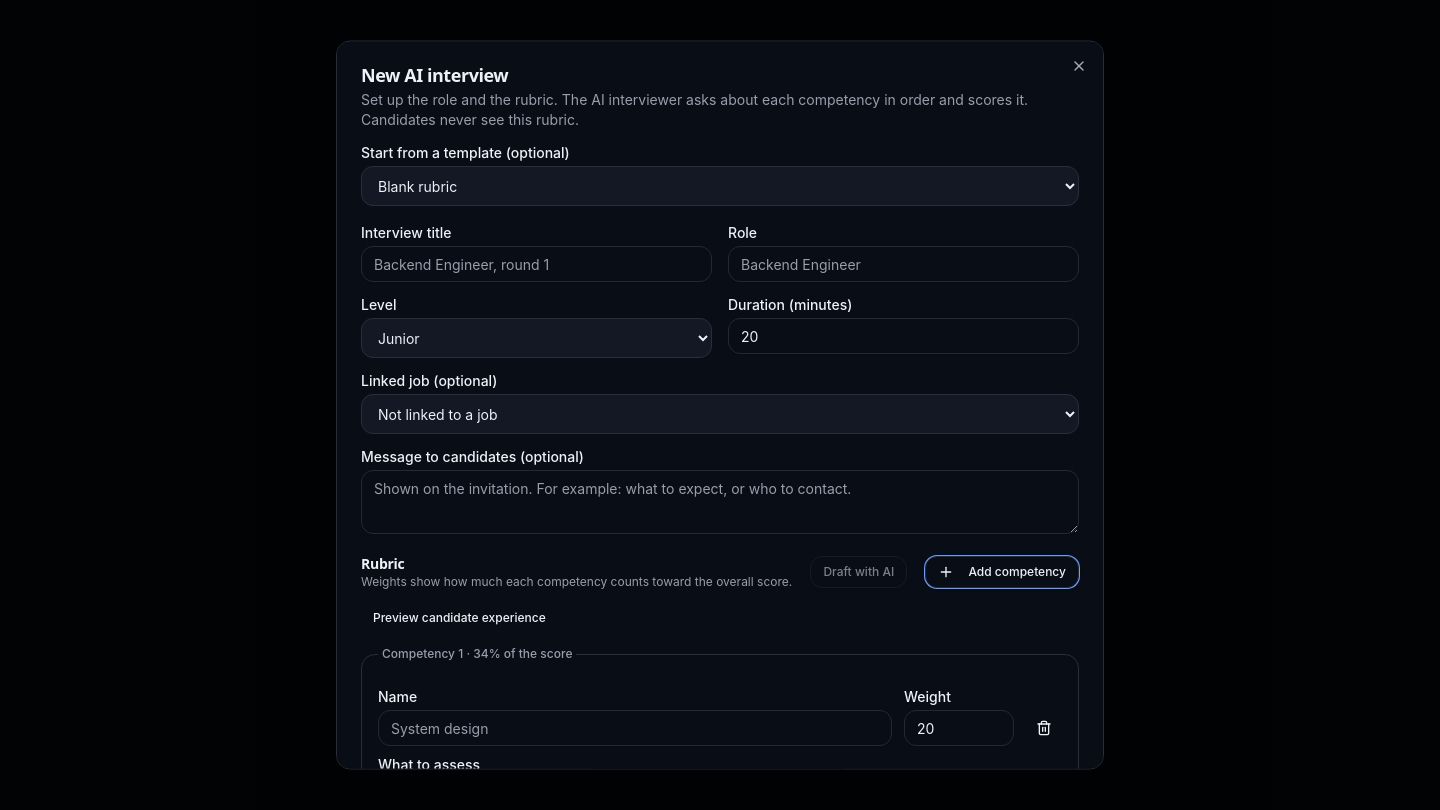
TemplateFormDialog › adds and removes competencies, keeping at least one and at most eight
Earlier steps of the test are not shown.
Click the button "Add competency".
click(1002, 572)  # box [925, 556, 1079, 588]
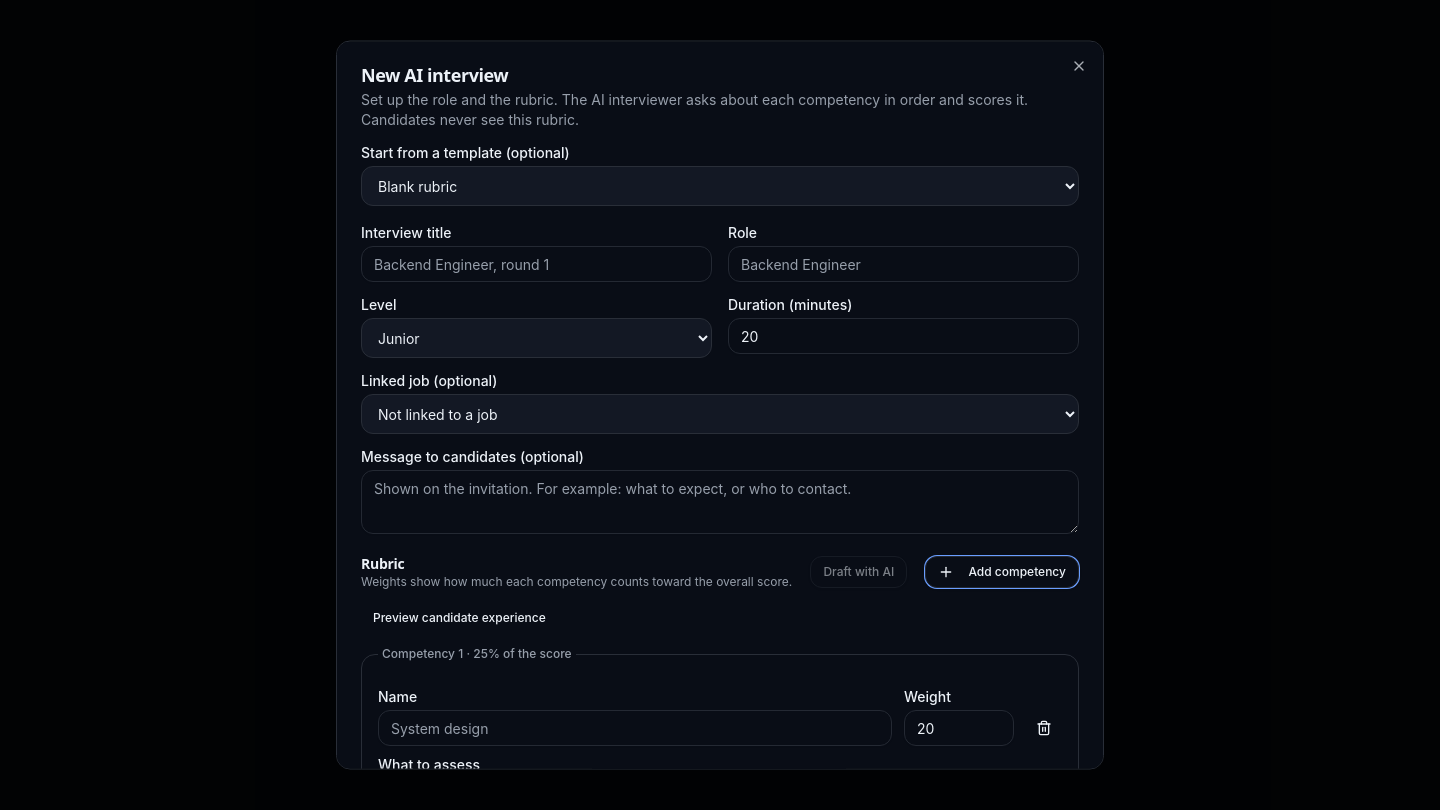
Click the button "Add competency".
click(1002, 572)  # box [925, 556, 1079, 588]
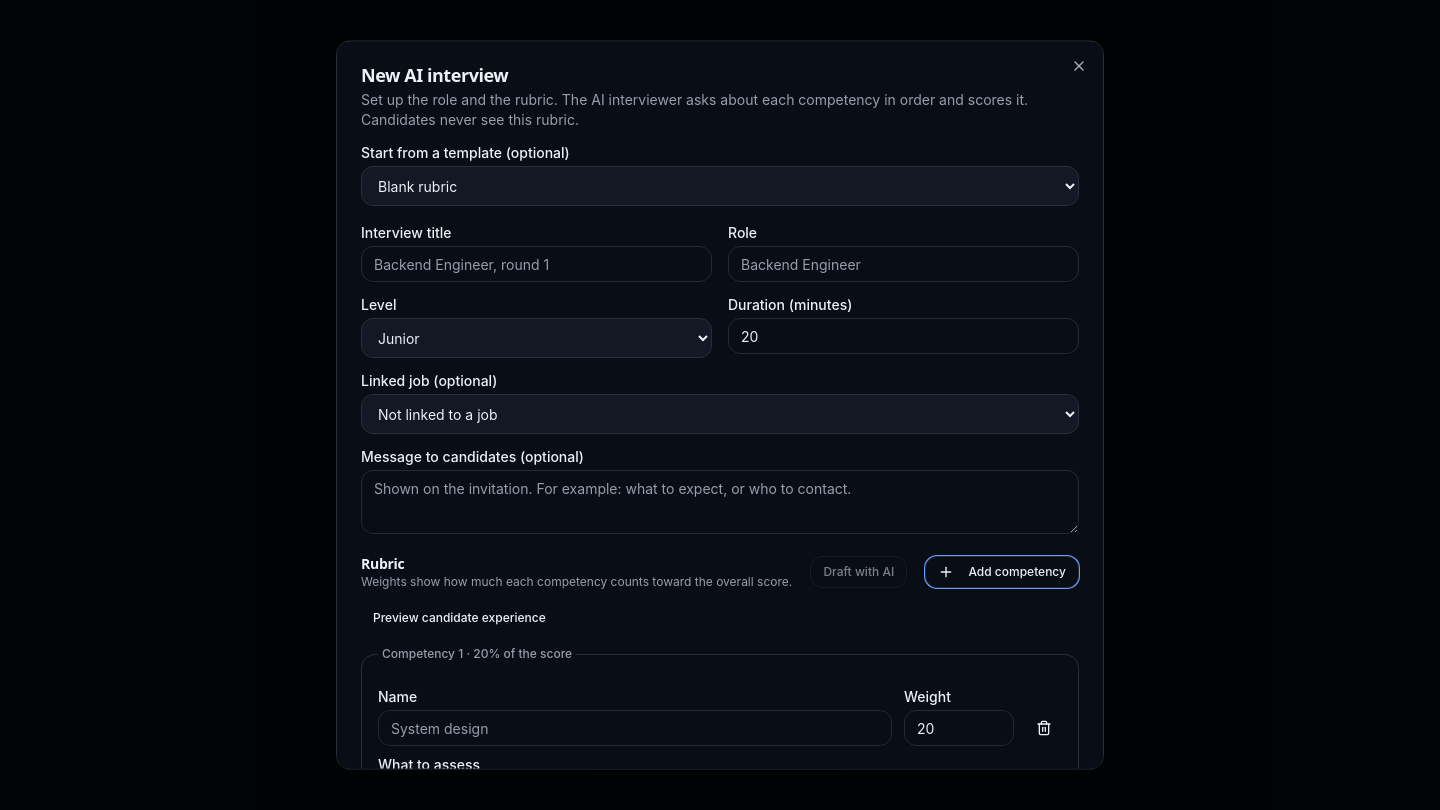
Click the button "Add competency".
click(1002, 572)  # box [925, 556, 1079, 588]
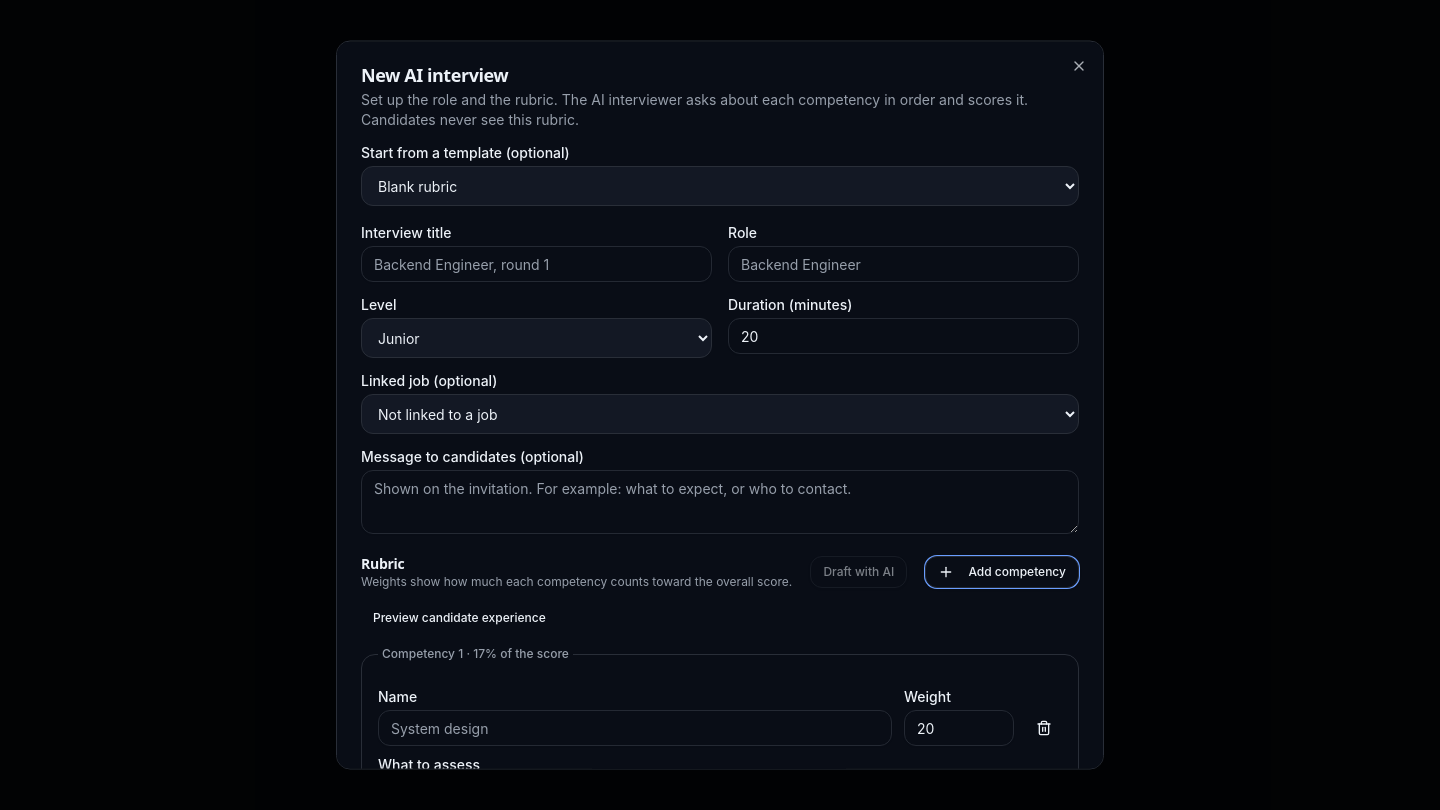
Click the button "Add competency".
click(1002, 572)  # box [925, 556, 1079, 588]
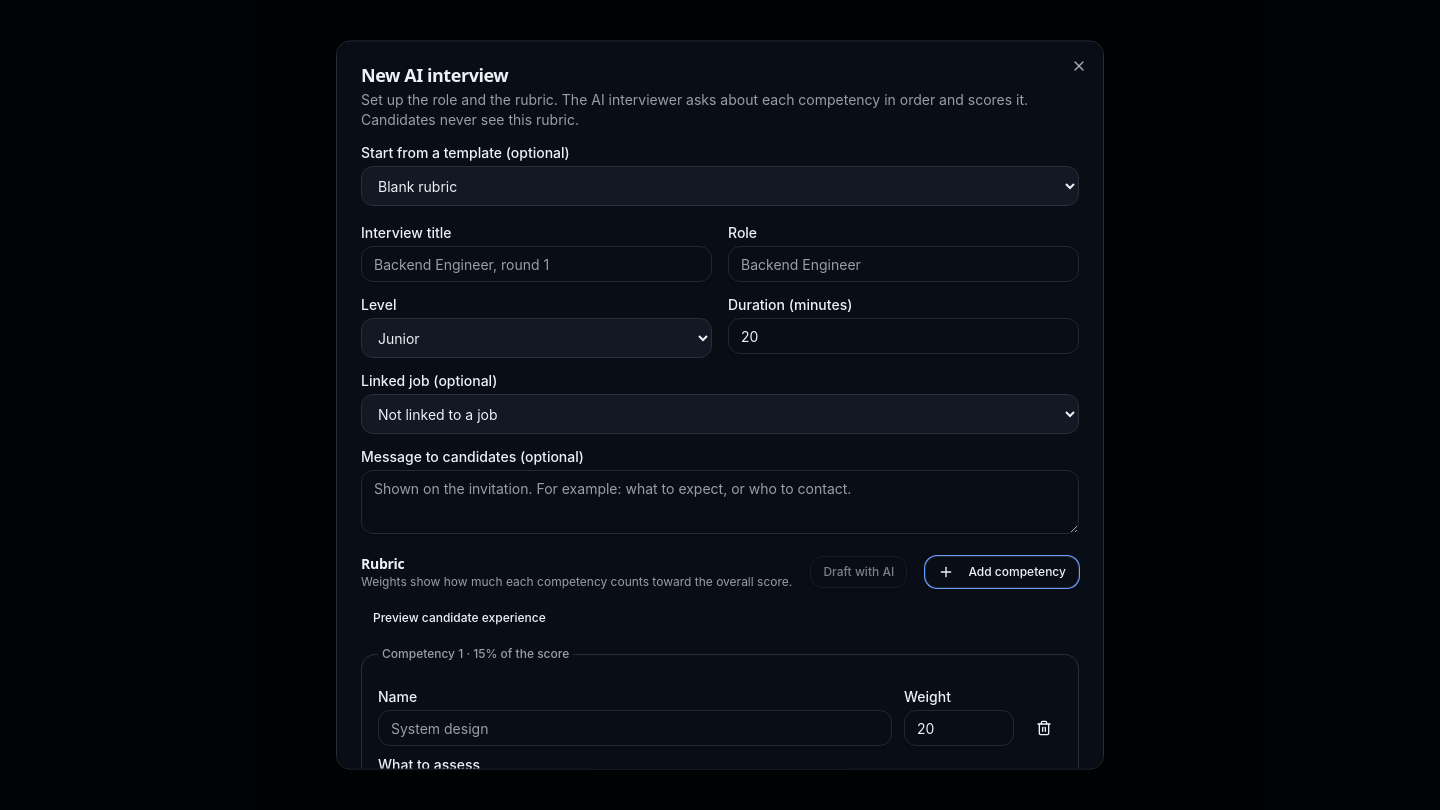
Click the button "Add competency".
click(1002, 572)  # box [925, 556, 1079, 588]
(page scrolled)
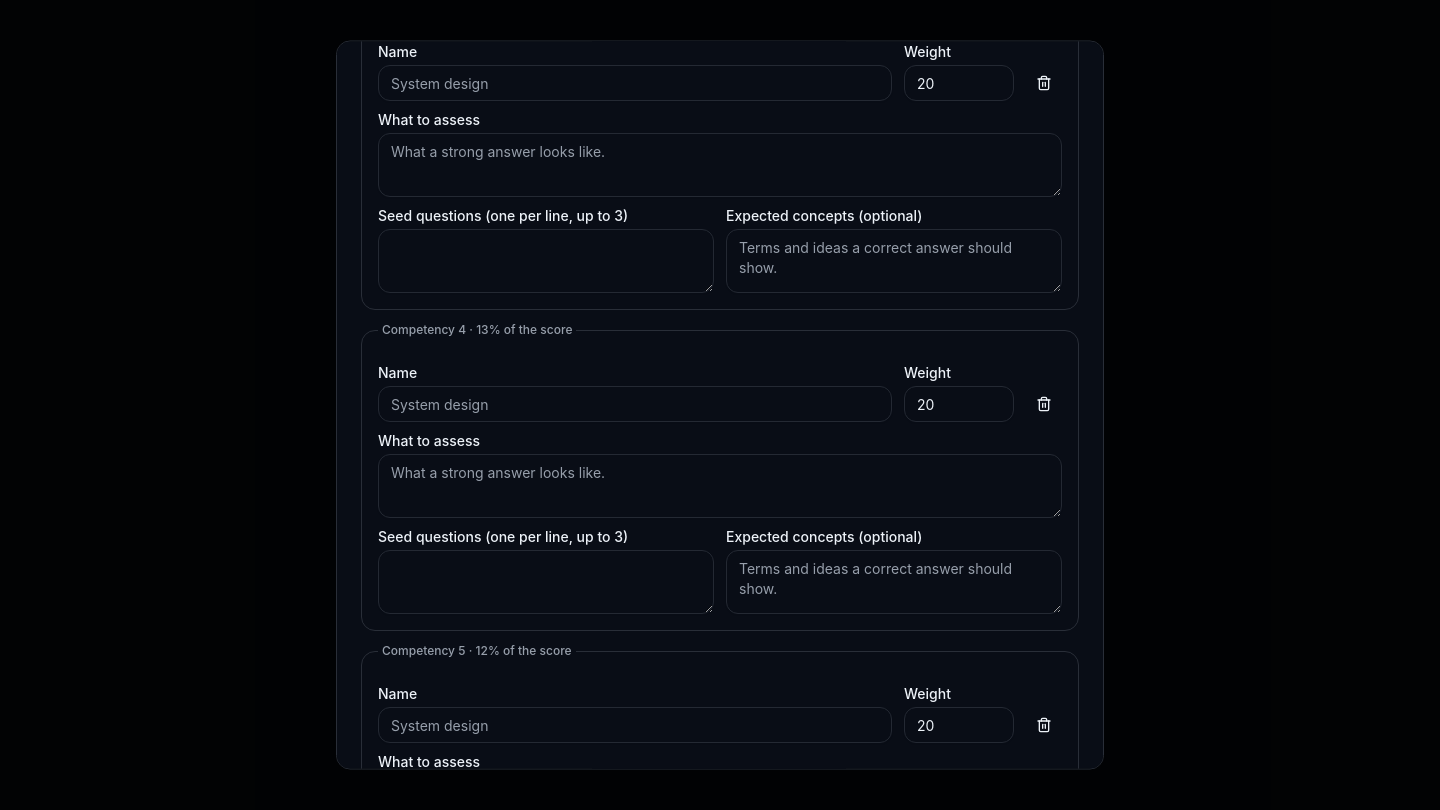
Check: the number of buttons "remove competency" is 8
Click the button named "remove competency".
click(1044, 404)  # box [1026, 386, 1062, 422]
(page scrolled)
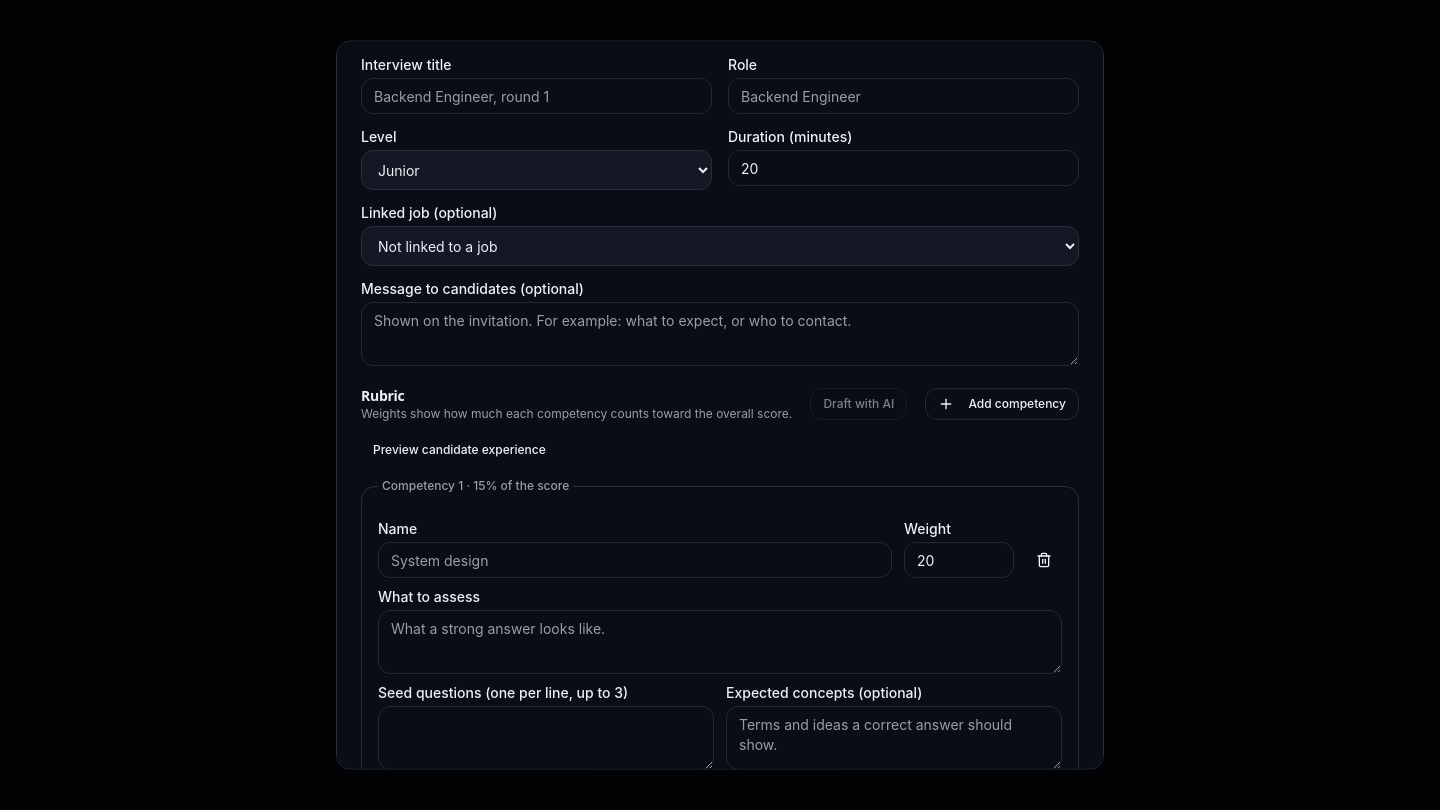
Check: the number of buttons named "remove competency" is 7
Check: the button "Add competency" is enabled, box [925, 388, 1079, 420]
